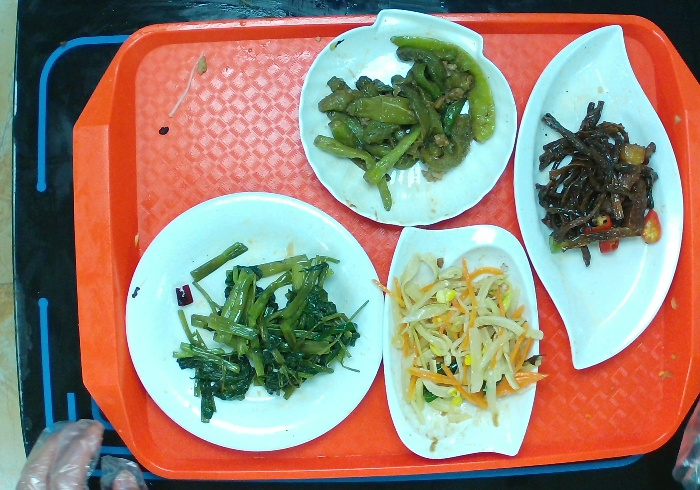RJxy-Bei_Ke_Wan: (292, 7, 519, 230)
RJxy-Jian_Jiao_Fang_Die: (381, 221, 546, 460)
RJxy-Jian_Jiao_Pan: (505, 19, 687, 376)
RJxy-Yuan_Pan: (118, 189, 387, 452)
